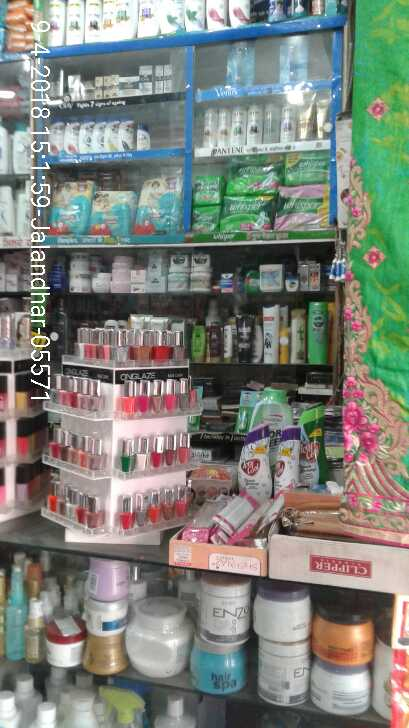venus: (228, 38, 253, 85), (280, 37, 306, 82)
